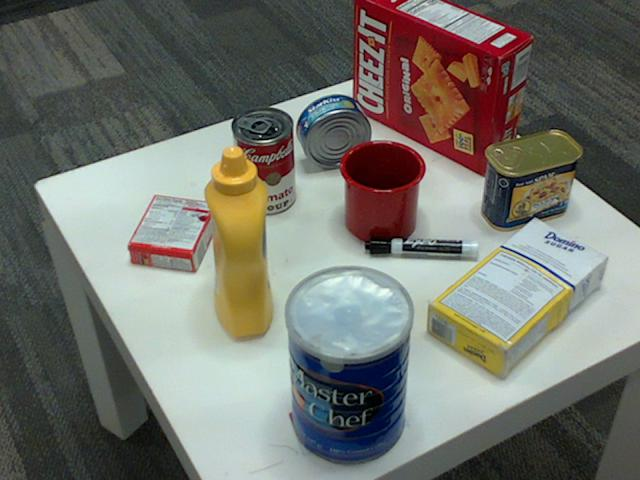cracker_box: (352, 0, 532, 175)
gelatin_box: (125, 192, 215, 269)
large_marker: (366, 237, 479, 261)
master_chef_can: (285, 267, 414, 467)
mug: (336, 138, 424, 243)
mustard_bottle: (202, 146, 272, 337)
potted_meat_can: (480, 132, 580, 232)
sugar_box: (424, 217, 605, 379)
tomato_soup_can: (231, 107, 294, 215)
tuna_fish_can: (295, 94, 370, 168)
